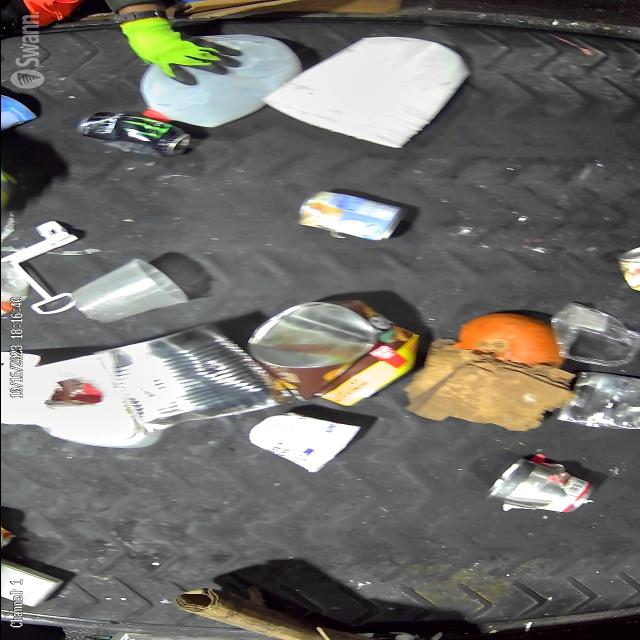can: (93, 324, 280, 434), (247, 298, 419, 406), (486, 458, 596, 512), (295, 190, 405, 240), (75, 111, 191, 157), (616, 247, 640, 291)
milk_jug: (262, 36, 468, 148), (138, 34, 300, 127)
